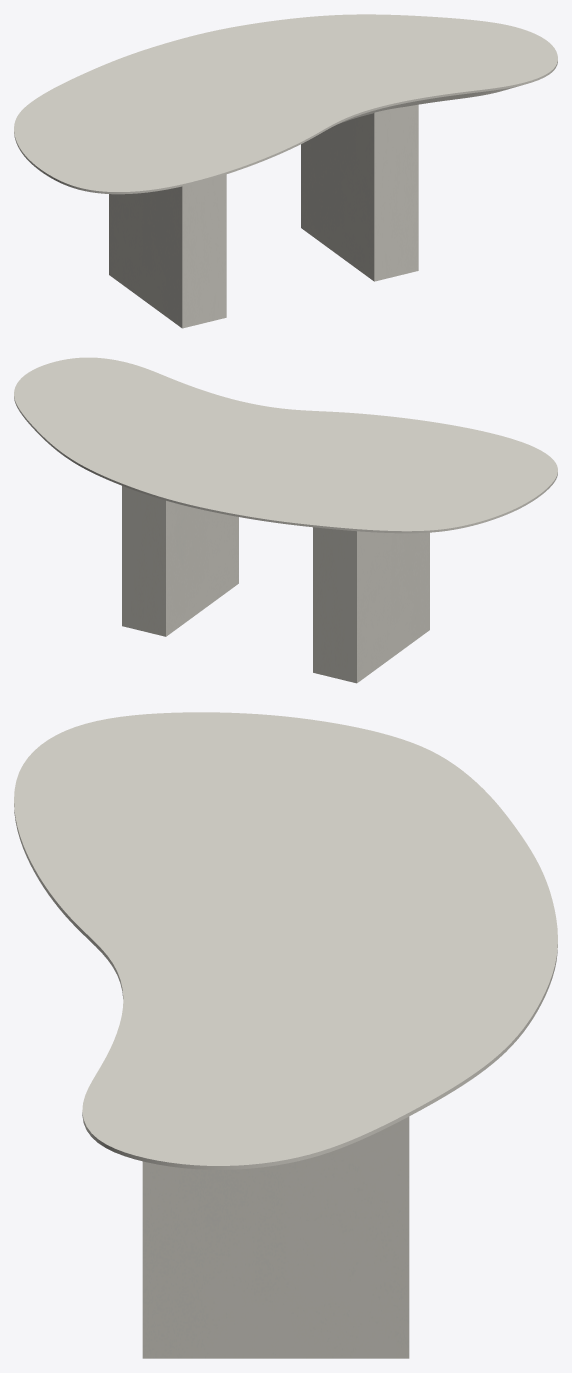
The model's file is pale_leaf1_facet_ridge.glb.
3 renders of one model, top to bottom at view 1: azimuth 30°, elevation 25°; view 2: azimuth 150°, elevation 25°; view 3: azimuth 270°, elevation 25°, orthographic. The views are drawn at different scales.
Visible parts, largest first — view 1: facet_leaf1, ridge; view 2: facet_leaf1, ridge; view 3: facet_leaf1, ridge.
Boxes of the visible parts, x1,y1,x2,y2 form: facet_leaf1: [14, 14, 557, 194]; ridge: [109, 104, 418, 328]; facet_leaf1: [14, 357, 557, 533]; ridge: [122, 486, 429, 683]; facet_leaf1: [14, 712, 557, 1169]; ridge: [142, 1116, 409, 1358].
Bounding box in the file's own units: 7.5 × 2.5 × 3.8.
1 material, 1 textured.
